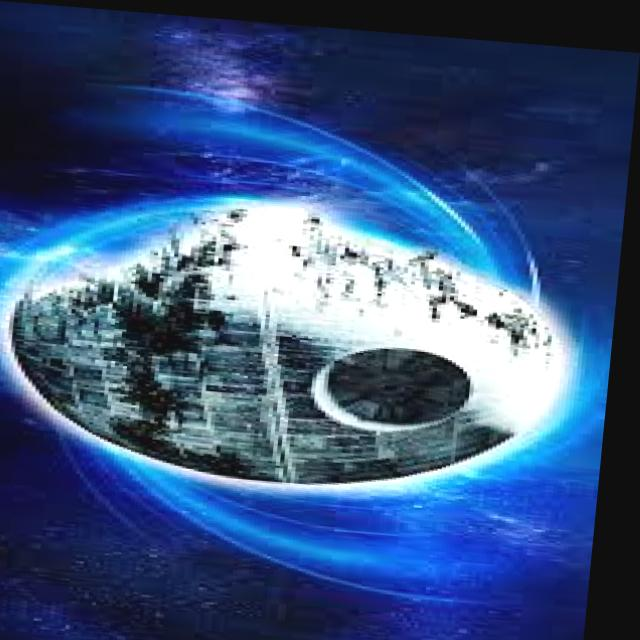deathStar: (3, 178, 589, 494)
